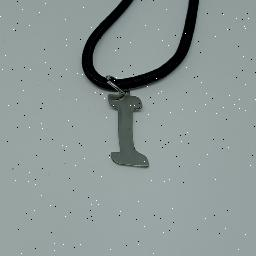i: (94, 78, 166, 180)
